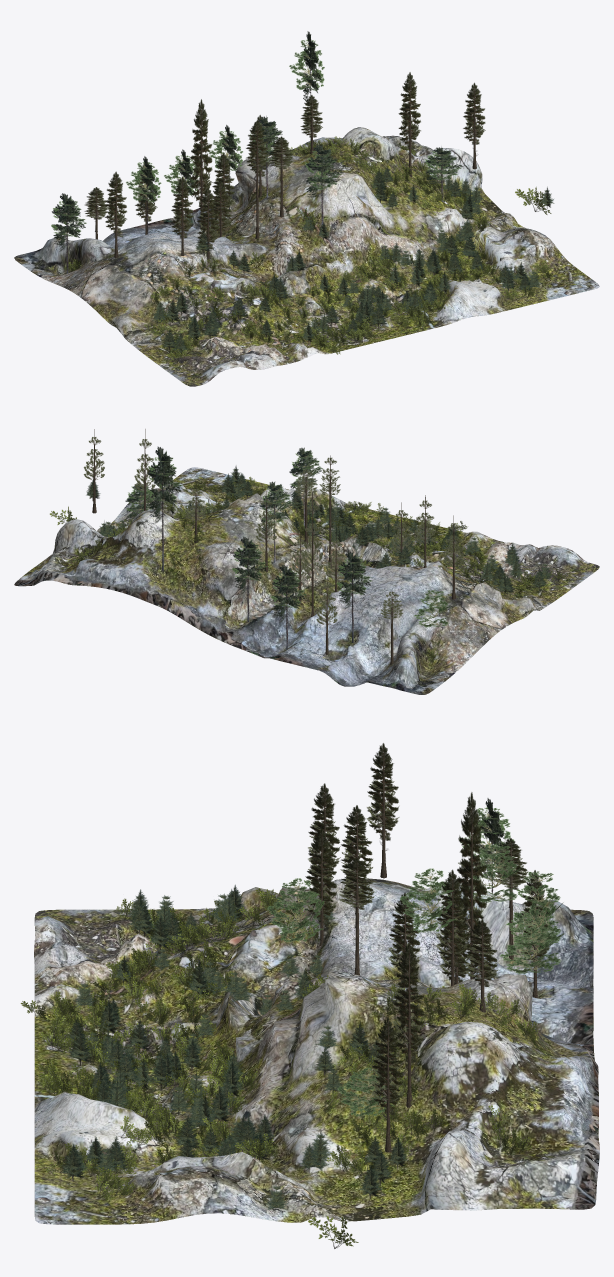
The model's file is forest-mountain.glb.
3 views of the same model, one above another, from view 1: azimuth 30°, elevation 25°; view 2: azimuth 150°, elevation 25°; view 3: azimuth 270°, elevation 25° (orthographic). The views are drawn at different scales.
Visible parts, largest first — view 1: a37081a7611992c6f6d9dc1786dbc08d, 05ade0e713892be558511d706fa6c547-no-bg-preview (carve.photos (×8), Cylinder.023, Cylinder.018, Cylinder.019, Cylinder.016, Cylinder.012, Cylinder.015, Cylinder.014, Cylinder.013, Cylinder.017, Cylinder.020 (+3 smaller); view 2: a37081a7611992c6f6d9dc1786dbc08d, 05ade0e713892be558511d706fa6c547-no-bg-preview (carve.photos (×8), Cylinder.023, Cylinder.012, Cylinder.016, Cylinder.019, Cylinder.024, Cylinder.018, Cylinder.015, Cylinder.021, Cylinder.025, Cylinder.013 (+4 smaller); view 3: a37081a7611992c6f6d9dc1786dbc08d, 05ade0e713892be558511d706fa6c547-no-bg-preview (carve.photos (×8), Cylinder.023, Cylinder.018, Cylinder.016, Cylinder.019, Cylinder.021, Cylinder.014, Cylinder.020, Cylinder.013, Cylinder.015, Cylinder.017 (+4 smaller).
Part boxes in pixels (box(x1,y1,x2,y2)): a37081a7611992c6f6d9dc1786dbc08d: box(14, 127, 599, 386); 05ade0e713892be558511d706fa6c547-no-bg-preview (carve.photos (×8): box(51, 31, 463, 273); Cylinder.023: box(190, 99, 212, 227); Cylinder.018: box(398, 72, 420, 177); Cylinder.019: box(463, 82, 485, 169); Cylinder.016: box(104, 171, 126, 257); Cylinder.012: box(246, 120, 267, 238); Cylinder.015: box(171, 176, 193, 256); Cylinder.014: box(197, 187, 219, 262); Cylinder.013: box(269, 136, 293, 216); Cylinder.017: box(210, 181, 231, 237); Cylinder.020: box(300, 95, 322, 153); a37081a7611992c6f6d9dc1786dbc08d: box(14, 467, 599, 694); 05ade0e713892be558511d706fa6c547-no-bg-preview (carve.photos (×8): box(125, 446, 450, 649); Cylinder.023: box(302, 491, 322, 616); Cylinder.012: box(319, 455, 340, 568); Cylinder.016: box(443, 515, 464, 599); Cylinder.019: box(83, 429, 104, 513); Cylinder.024: box(316, 574, 337, 654); Cylinder.018: box(134, 429, 155, 510); Cylinder.015: box(414, 495, 435, 567); Cylinder.021: box(255, 491, 276, 571); Cylinder.025: box(380, 591, 403, 664); Cylinder.013: box(294, 469, 317, 545); a37081a7611992c6f6d9dc1786dbc08d: box(34, 878, 599, 1224); 05ade0e713892be558511d706fa6c547-no-bg-preview (carve.photos (×8): box(267, 798, 564, 1116); Cylinder.023: box(456, 792, 487, 979); Cylinder.018: box(392, 942, 425, 1107); Cylinder.016: box(366, 743, 399, 878); Cylinder.019: box(371, 1017, 403, 1152); Cylinder.021: box(435, 869, 468, 986); Cylinder.014: box(305, 828, 337, 945); Cylinder.020: box(465, 919, 498, 1012); Cylinder.013: box(339, 858, 374, 975); Cylinder.015: box(308, 783, 340, 894); Cylinder.017: box(388, 893, 420, 978).
Bounding box in the file's own units: 33.66 × 13.04 × 23.4.
Materials: 10 (10 with a texture image).
